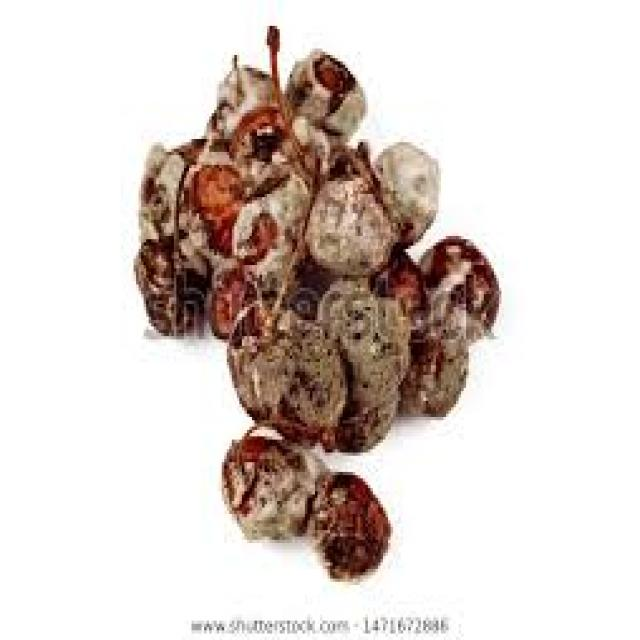organic waste: (315, 278, 411, 398), (222, 433, 332, 533), (302, 171, 393, 278), (307, 468, 393, 578), (272, 313, 343, 443), (230, 168, 308, 285), (418, 233, 499, 339), (224, 297, 290, 423), (131, 226, 207, 333), (282, 45, 368, 133), (138, 139, 212, 236), (370, 139, 436, 242), (401, 323, 466, 414), (207, 61, 274, 146), (323, 381, 398, 446), (187, 158, 240, 249), (280, 110, 338, 178), (227, 100, 290, 162), (370, 242, 421, 310), (209, 265, 255, 330)
